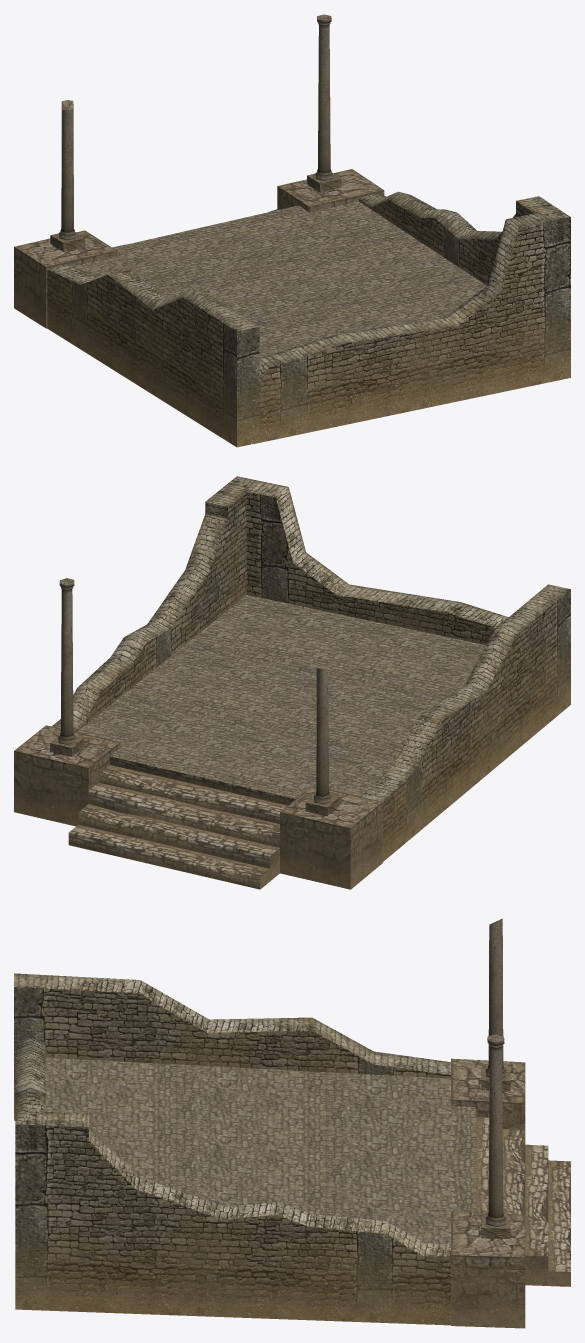
The model's file is ancient_ruins_03.FBX.
3 views of the same model, one above another, from view 1: azimuth 30°, elevation 25°; view 2: azimuth 150°, elevation 25°; view 3: azimuth 270°, elevation 25° (orthographic). The views are drawn at different scales.
Visible parts, largest first — view 1: Object062, Object063, Object064; view 2: Object062, Object063, Object064; view 3: Object062, Object063, Object064.
Part boxes in pixels (<box>): Object062: <box>14,169,570,447</box>; Object063: <box>307,14,341,192</box>; Object064: <box>50,100,84,251</box>; Object062: <box>14,476,570,889</box>; Object063: <box>50,578,84,756</box>; Object064: <box>305,665,339,816</box>; Object062: <box>14,973,570,1328</box>; Object063: <box>481,1034,510,1238</box>; Object064: <box>481,918,510,1091</box>.
Bounding box in the file's own units: 1939 × 2402 × 1275.
